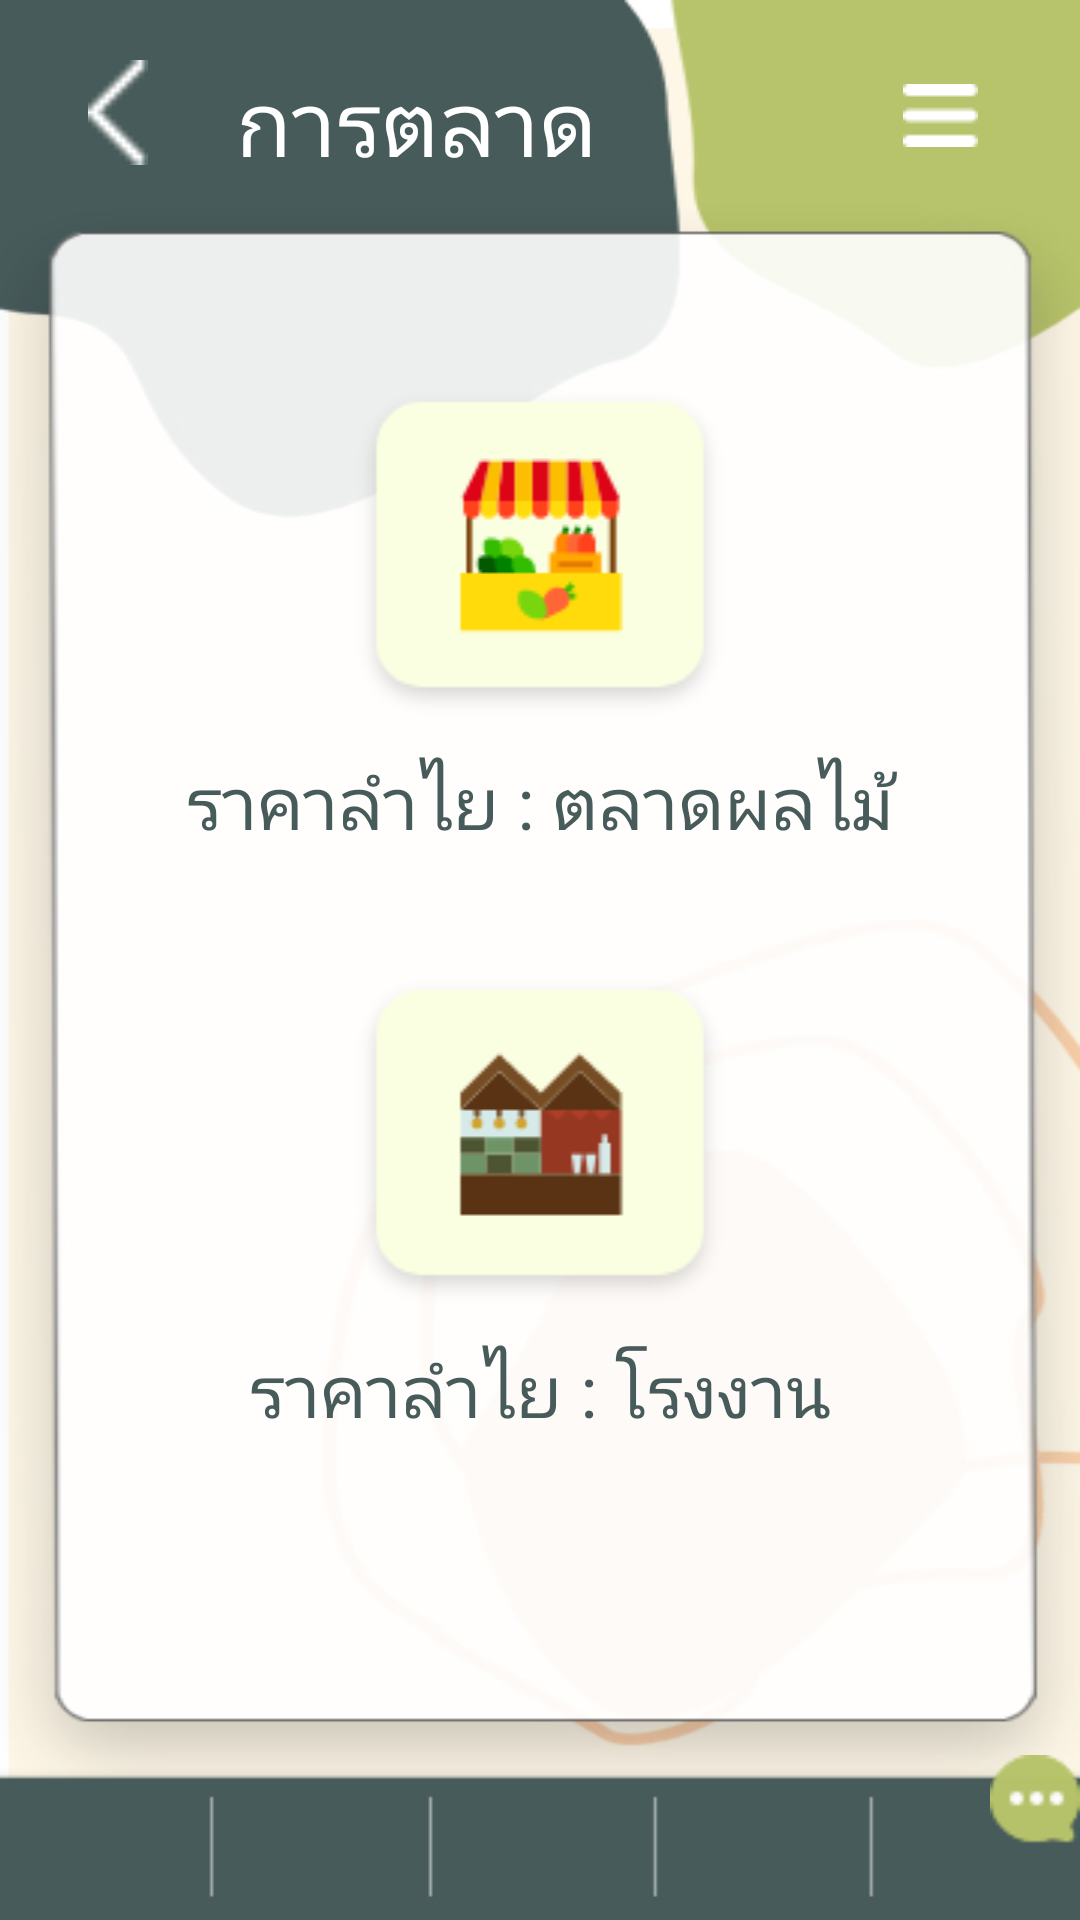

Screen size 1080×1920. Icon name, then its box in pixels as (x1, y1, x2, y2):
menusymbol: (903, 84, 978, 147)
